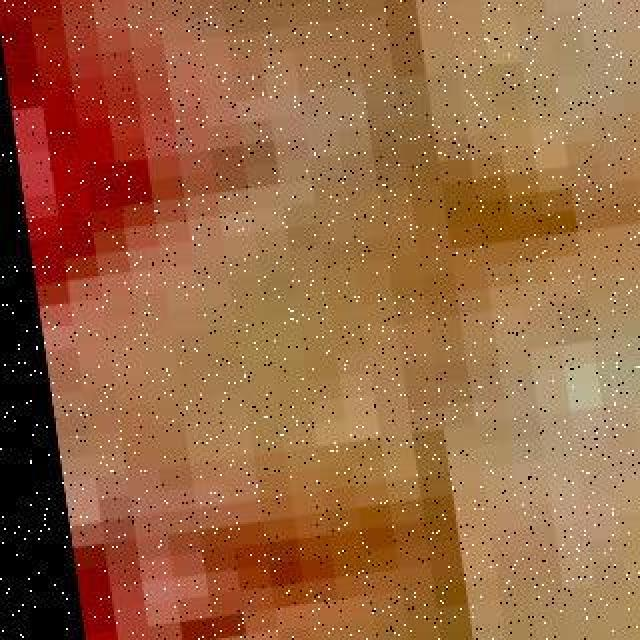calculus: (45, 166, 525, 538), (30, 0, 464, 112), (542, 200, 640, 630), (394, 0, 640, 128)
